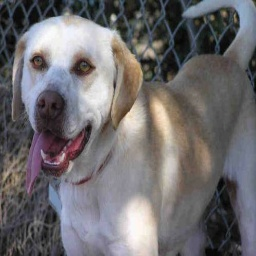dog: (11, 8, 256, 256)
